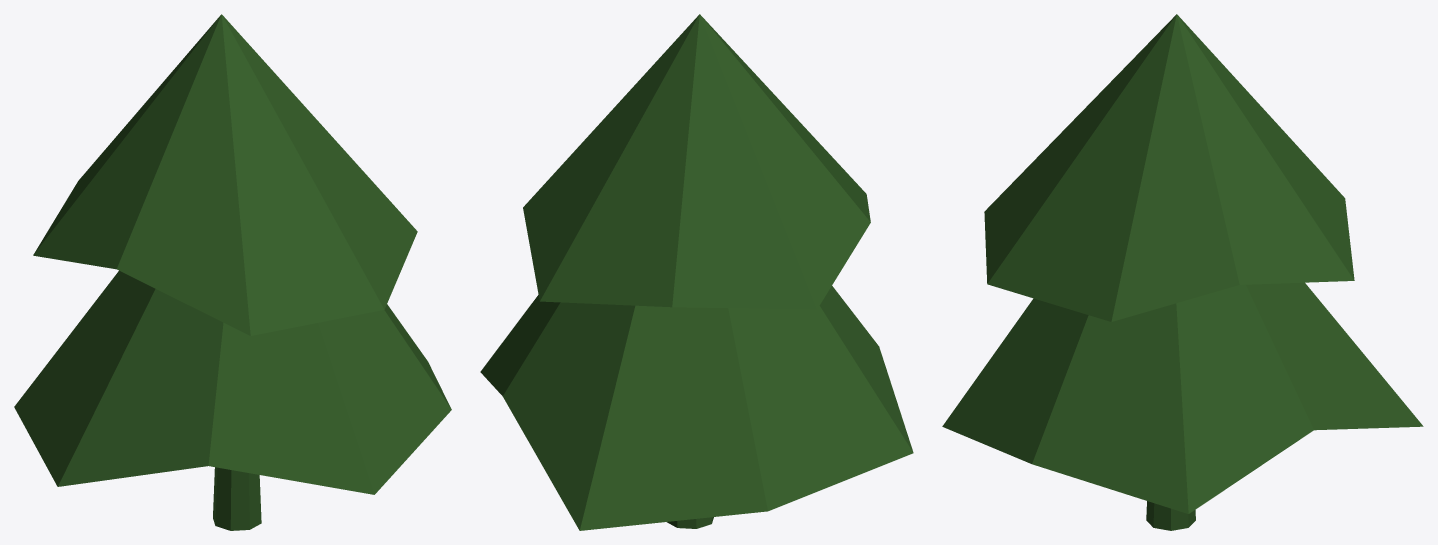
The model's file is Saplin2.FBX.
3 views of the same model, side by side, from view 1: azimuth 30°, elevation 25°; view 2: azimuth 150°, elevation 25°; view 3: azimuth 270°, elevation 25° (orthographic).
Visible parts, largest first — view 1: Saplin2; view 2: Saplin2; view 3: Saplin2.
Boxes of the visible parts, x1,y1,x2,y2 form: Saplin2: (14,14,451,530); Saplin2: (480,14,913,530); Saplin2: (942,14,1423,530).
Size of what is drawn, in the model's own units: 147 by 155 by 178.
